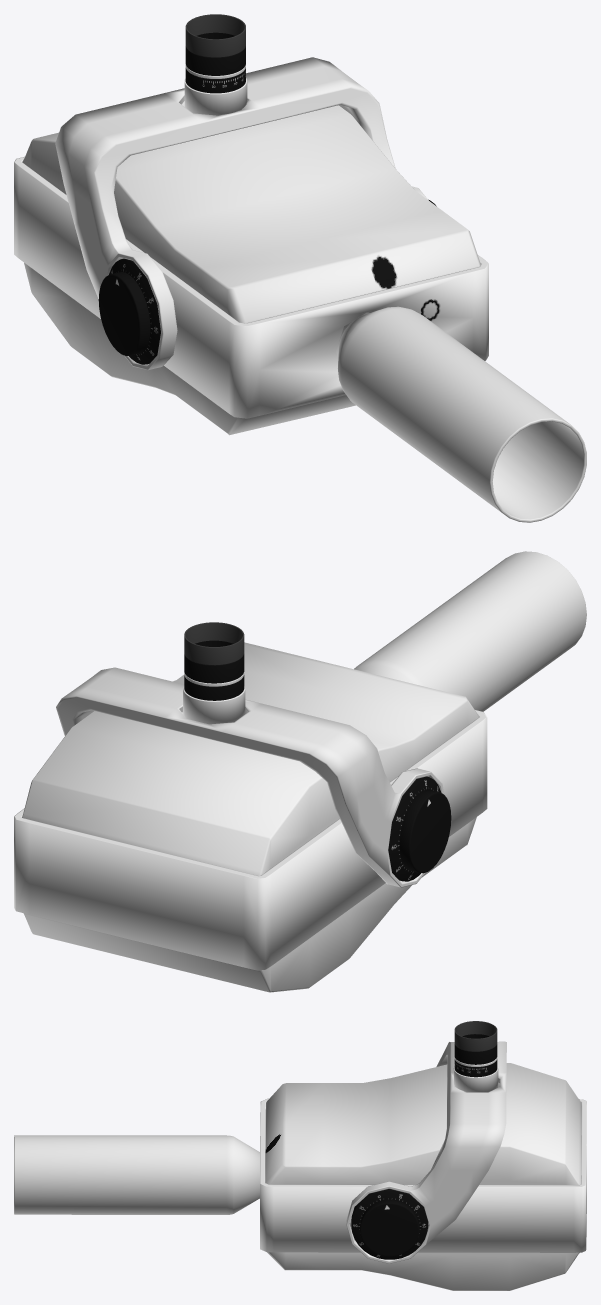
Rendered from ModifiedXray.gltf.
The picture shows the model from 3 angles, top to bottom: view 1: azimuth 30°, elevation 25°; view 2: azimuth 150°, elevation 25°; view 3: azimuth 270°, elevation 25°; orthographic projection. The views are drawn at different scales.
Parts seen in each view (by area): view 1: hainuo_dental_xray_unit_fixer7, hainuo_dental_xray_unit_fixer10, hainuo_dental_xray_unit_fixer11, hainuo_dental_xray_unit_fixer9, hainuo_dental_xray_unit_regulator, hainuo_dental_xray_unit_fixer13, hainuo_dental_xray_unit_fixer14, hainuo_dental_xray_unit_fixer13.1; view 2: hainuo_dental_xray_unit_fixer7, hainuo_dental_xray_unit_fixer10, hainuo_dental_xray_unit_fixer11, hainuo_dental_xray_unit_fixer9, hainuo_dental_xray_unit_regulator, hainuo_dental_xray_unit_fixer13, hainuo_dental_xray_unit_fixer14, hainuo_dental_xray_unit_fixer13.1; view 3: hainuo_dental_xray_unit_fixer7, hainuo_dental_xray_unit_fixer11, hainuo_dental_xray_unit_fixer10, hainuo_dental_xray_unit_fixer9, hainuo_dental_xray_unit_regulator2, hainuo_dental_xray_unit_fixer13, hainuo_dental_xray_unit_fixer14, hainuo_dental_xray_unit_fixer13.1.
Part boxes in pixels (x1,y1,x2,y2): hainuo_dental_xray_unit_fixer7: (22, 105, 480, 435); hainuo_dental_xray_unit_fixer10: (14, 156, 488, 418); hainuo_dental_xray_unit_fixer11: (338, 306, 586, 522); hainuo_dental_xray_unit_fixer9: (55, 57, 428, 370); hainuo_dental_xray_unit_regulator: (98, 258, 160, 364); hainuo_dental_xray_unit_fixer13: (185, 32, 245, 93); hainuo_dental_xray_unit_fixer14: (185, 14, 245, 57); hainuo_dental_xray_unit_fixer13.1: (184, 64, 247, 115); hainuo_dental_xray_unit_fixer7: (22, 642, 478, 992); hainuo_dental_xray_unit_fixer10: (14, 710, 487, 970); hainuo_dental_xray_unit_fixer11: (354, 551, 586, 711); hainuo_dental_xray_unit_fixer9: (56, 667, 444, 887); hainuo_dental_xray_unit_regulator: (388, 776, 451, 881); hainuo_dental_xray_unit_fixer13: (184, 640, 244, 700); hainuo_dental_xray_unit_fixer14: (184, 622, 244, 665); hainuo_dental_xray_unit_fixer13.1: (183, 672, 245, 724); hainuo_dental_xray_unit_fixer7: (265, 1063, 581, 1290); hainuo_dental_xray_unit_fixer11: (14, 1135, 259, 1214); hainuo_dental_xray_unit_fixer10: (260, 1098, 586, 1252); hainuo_dental_xray_unit_fixer9: (346, 1041, 506, 1263); hainuo_dental_xray_unit_regulator2: (351, 1189, 428, 1259); hainuo_dental_xray_unit_fixer13: (454, 1034, 497, 1077); hainuo_dental_xray_unit_fixer14: (454, 1021, 497, 1051); hainuo_dental_xray_unit_fixer13.1: (453, 1057, 498, 1092).
Bounding box in the file's own units: 16.84 × 15.86 × 37.51.
Materials: 4 (2 with a texture image).
